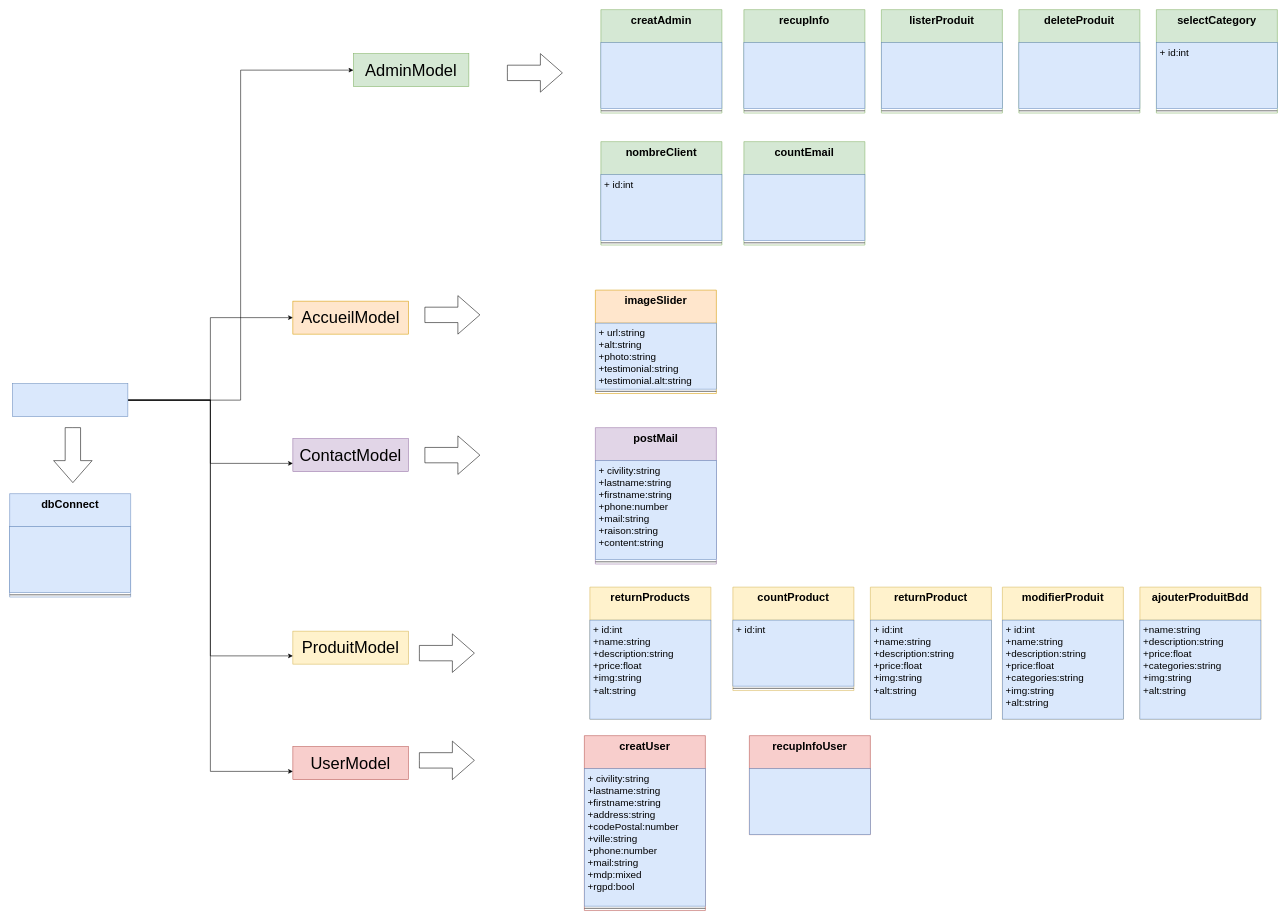
Image size: 1287x920. Some labels were removed from this diagram. The shapes that lost their labels are listed below. From the top down, each one's centre as x and y in pixels, then its label:
At (661,75): "+lastname:string +firstname:string +mail:string +mdp:string".
At (804,75): "+ id:int +mail:string +mdp:string +firstname:string".
At (941,75): "+ id:int +name:string +description:string +price:float +categories:string".
At (804,207): "+ content:string".
At (70,400): "Manager".
At (809,801): "+ id:int +mail:string +mdp:mixed +firstname:string".
